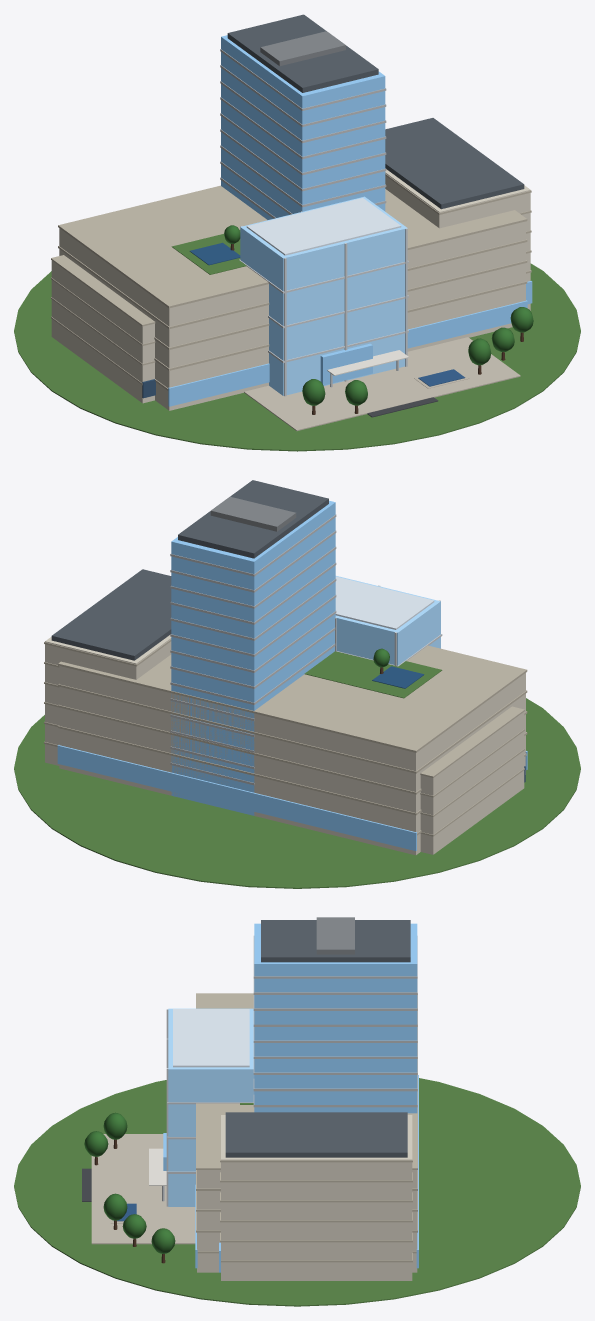
File: times-square.glb
3 views of the same model, one above another, from view 1: azimuth 30°, elevation 25°; view 2: azimuth 150°, elevation 25°; view 3: azimuth 270°, elevation 25° (orthographic).
Size of the model in its own units: 118 by 61.15 by 118.
